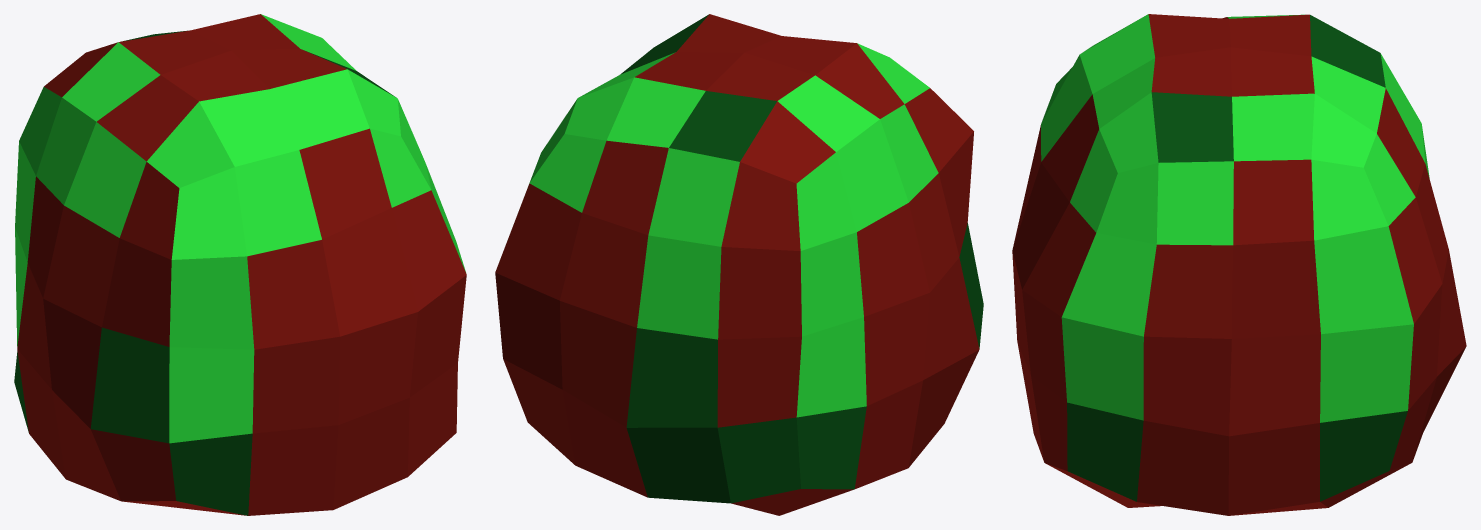
Rendered from mosswall2.glb.
The picture shows the model from 3 angles, left to right: view 1: azimuth 30°, elevation 25°; view 2: azimuth 150°, elevation 25°; view 3: azimuth 270°, elevation 25°; orthographic projection. The views are drawn at different scales.
Parts seen in each view (by area): view 1: Cube; view 2: Cube; view 3: Cube.
Part boxes in pixels (box(x1,y1,x2,y2)): Cube: box(14, 14, 466, 515); Cube: box(495, 14, 983, 515); Cube: box(1012, 14, 1466, 515).
Size of the model in its own units: 1.26 by 1.32 by 1.3.
